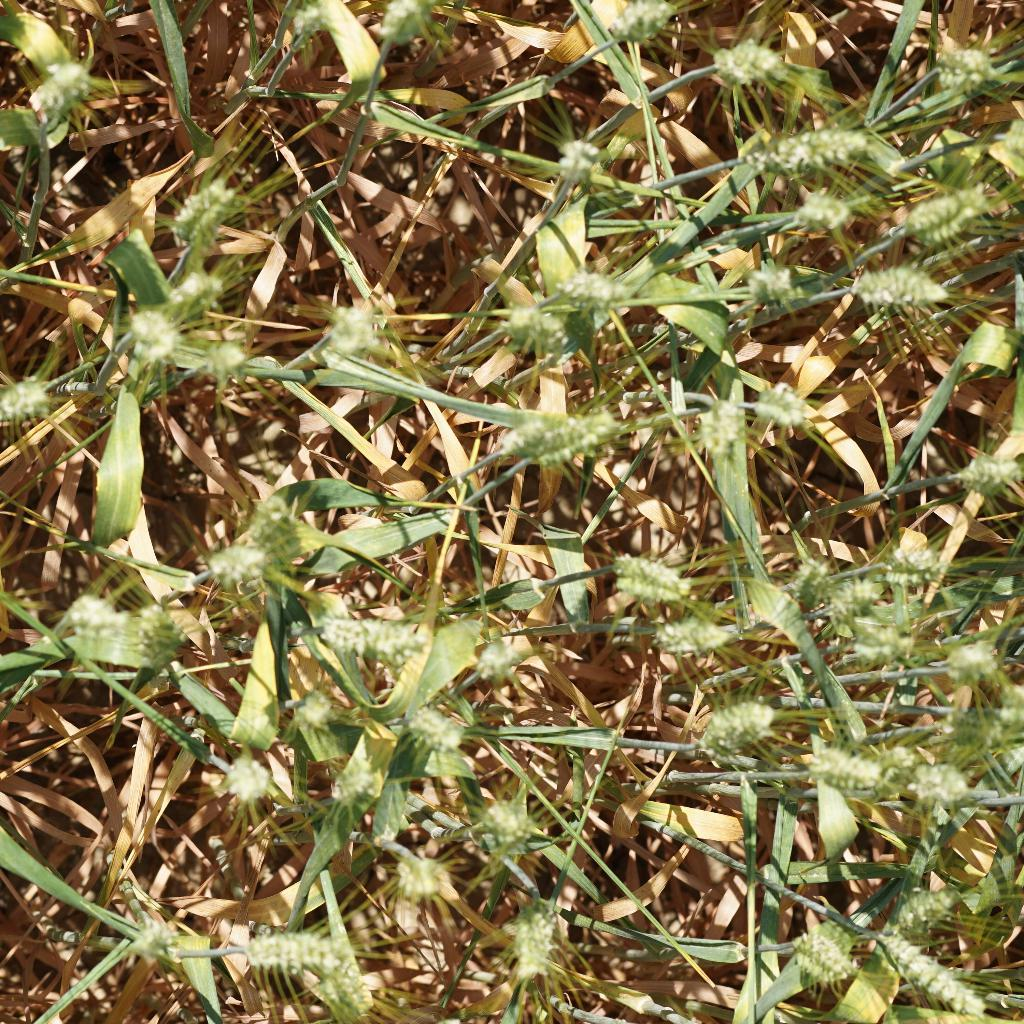0-0: (871, 923, 1004, 1023), (727, 105, 878, 185), (161, 169, 245, 254), (687, 686, 780, 762), (645, 595, 748, 662), (893, 176, 986, 250), (310, 929, 379, 1024), (243, 915, 340, 982), (503, 407, 616, 464), (845, 254, 948, 316), (497, 894, 570, 980), (602, 545, 695, 612), (204, 526, 287, 600), (17, 52, 104, 121), (320, 610, 426, 666), (111, 598, 190, 673), (701, 27, 800, 85), (814, 725, 893, 796), (884, 882, 979, 941), (875, 541, 974, 597), (677, 374, 744, 456), (926, 703, 1006, 769), (927, 27, 1008, 92), (787, 919, 856, 994), (914, 742, 985, 811), (564, 250, 628, 326), (230, 481, 297, 552), (62, 586, 134, 652), (122, 302, 198, 362), (400, 841, 453, 923), (376, 0, 458, 52), (605, 0, 681, 56), (392, 695, 466, 752), (0, 365, 64, 430), (126, 911, 193, 972), (481, 785, 535, 855), (215, 750, 279, 809), (548, 133, 608, 195), (825, 570, 889, 628), (332, 298, 385, 367), (968, 445, 1024, 507), (321, 750, 387, 802), (854, 616, 912, 675), (744, 256, 800, 317), (168, 269, 238, 317), (784, 194, 860, 238), (505, 286, 556, 351), (942, 627, 1005, 676), (187, 330, 248, 380), (473, 624, 520, 687), (754, 366, 803, 426), (296, 676, 336, 737), (789, 552, 832, 605), (289, 0, 333, 47)
